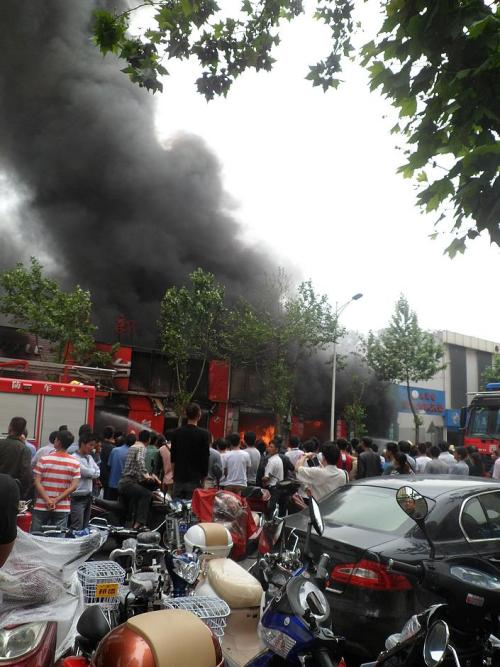smoke: (3, 7, 285, 307)
